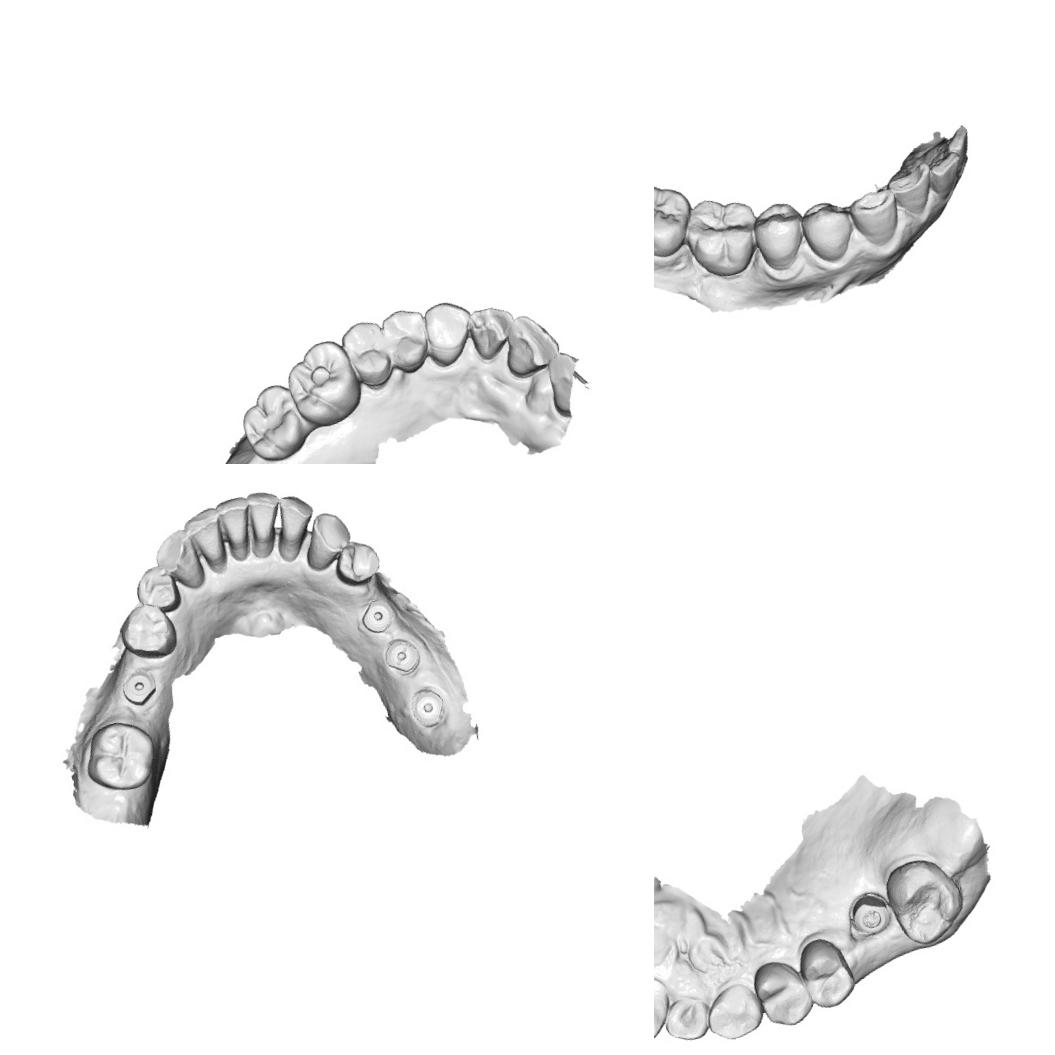canine: (417, 294, 481, 370), (146, 524, 208, 597), (295, 504, 359, 574), (700, 979, 767, 1045), (844, 184, 906, 252)
implant: (405, 683, 451, 732), (846, 892, 892, 936), (116, 666, 160, 710), (355, 594, 396, 637)
implant_minus: (378, 632, 426, 680)
incisor: (494, 305, 565, 380), (462, 300, 522, 364), (882, 159, 938, 221), (180, 504, 232, 570), (656, 989, 712, 1047), (238, 486, 289, 548), (270, 488, 320, 548), (212, 492, 258, 552), (923, 149, 970, 204), (926, 122, 973, 165), (654, 977, 675, 1050)
molar: (878, 850, 968, 951), (675, 188, 767, 284), (279, 334, 367, 433), (74, 712, 164, 801), (231, 374, 314, 464), (654, 173, 701, 267)
premolar: (792, 930, 858, 1014), (748, 952, 816, 1033), (745, 195, 812, 275), (112, 595, 184, 667), (795, 194, 860, 267), (336, 316, 396, 394), (376, 304, 436, 378), (328, 532, 386, 592), (129, 561, 184, 618)
